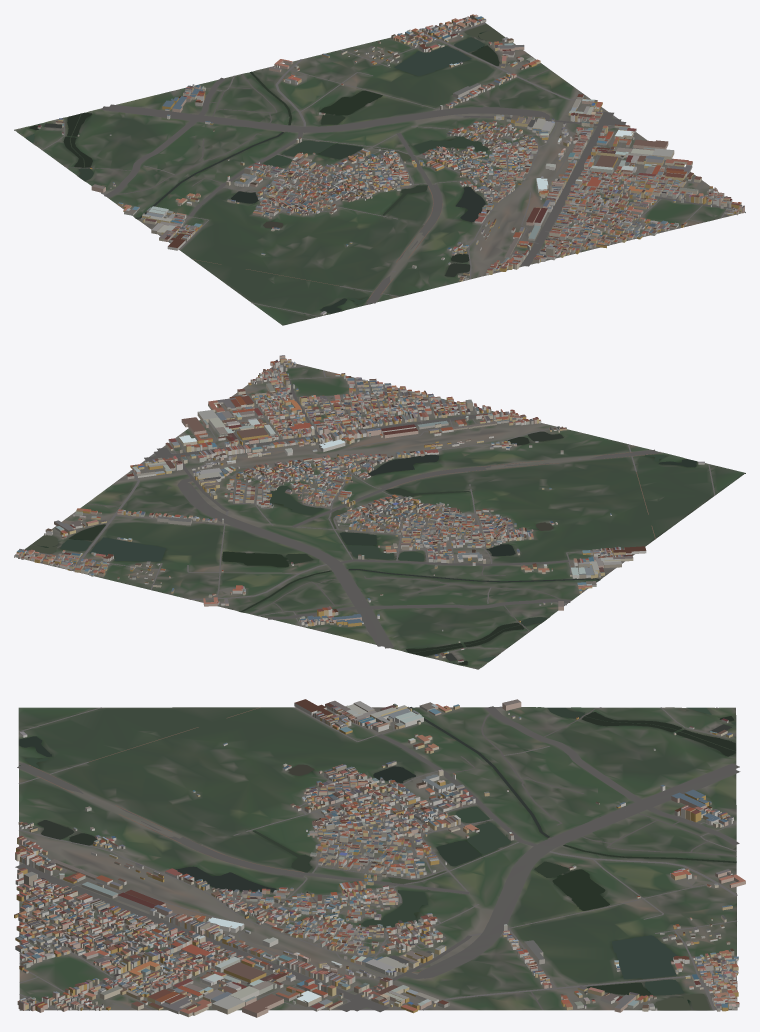
3 views of the same model, one above another, from view 1: azimuth 30°, elevation 25°; view 2: azimuth 150°, elevation 25°; view 3: azimuth 270°, elevation 25° (orthographic). The views are drawn at different scales.
Parts seen in each view (by area): view 1: ground, buildings, roads, water; view 2: ground, buildings, roads, water; view 3: ground, buildings, roads, water.
Part boxes in pixels (x1,y1,x2,y2): ground: (14, 18, 745, 325); buildings: (37, 14, 744, 315); roads: (21, 22, 737, 316); water: (18, 24, 504, 313); ground: (14, 363, 745, 669); buildings: (14, 355, 704, 662); roads: (39, 363, 715, 664); water: (25, 431, 696, 666); ground: (18, 707, 737, 1010); buildings: (14, 699, 745, 1017); roads: (15, 706, 740, 1012); water: (19, 707, 736, 1009).
Bounding box in the file's own units: 1456 × 28.48 × 1430.
